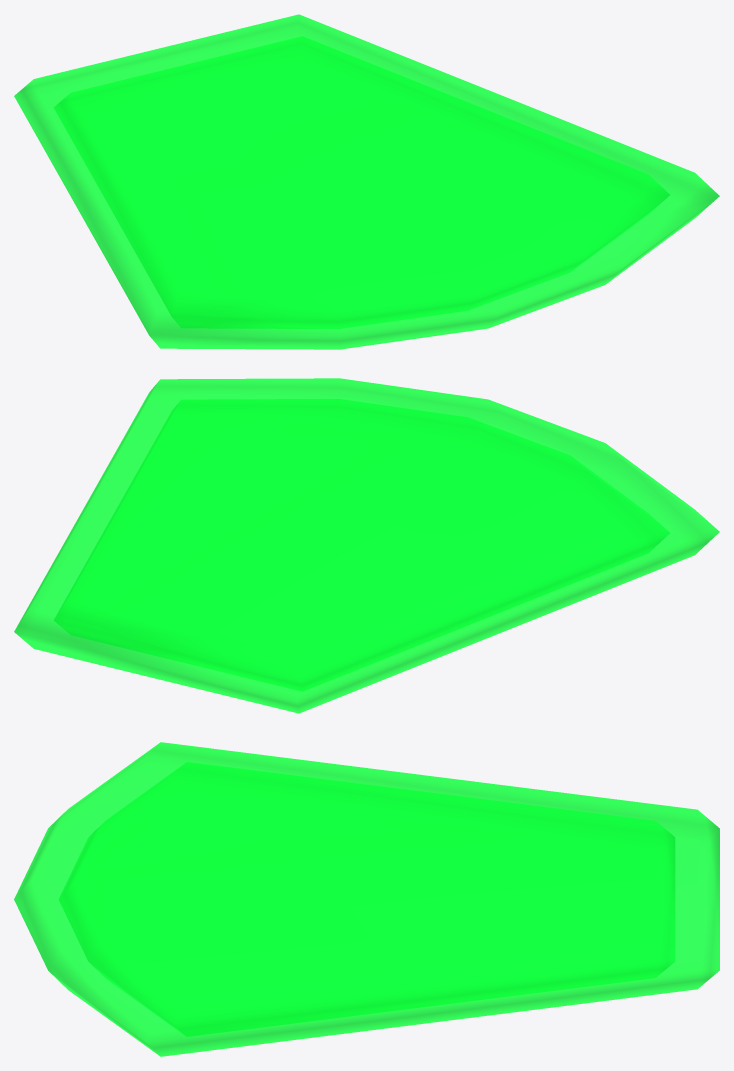
Rendered from View_Skirt.fbx.
3 views of the same model, one above another, from view 1: azimuth 30°, elevation 25°; view 2: azimuth 150°, elevation 25°; view 3: azimuth 270°, elevation 25° (orthographic). The views are drawn at different scales.
Parts seen in each view (by area): view 1: View_Skirt_1; view 2: View_Skirt_1; view 3: View_Skirt_1.
Boxes of the visible parts, x1=… form: View_Skirt_1: x1=14, y1=14, x2=719, y2=349; View_Skirt_1: x1=14, y1=378, x2=719, y2=713; View_Skirt_1: x1=14, y1=742, x2=719, y2=1056.
Bounding box in the file's own units: 2.22 × 0.1749 × 2.32.
